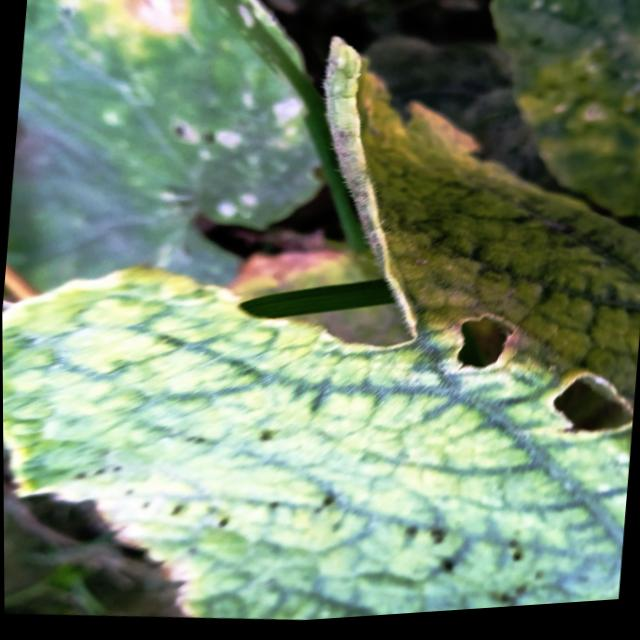Anthracnose: (541, 360, 637, 451), (449, 302, 524, 387)
